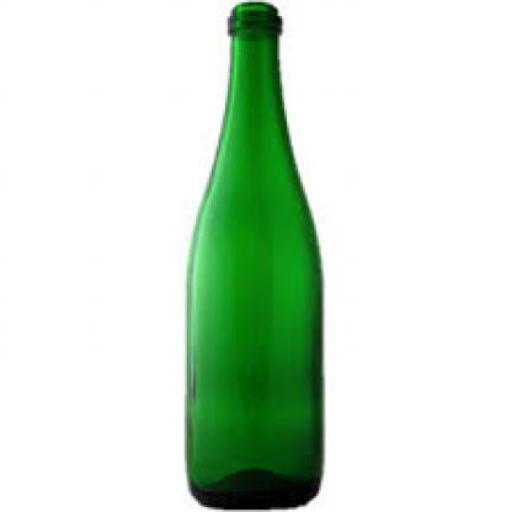glass: (184, 0, 323, 510)
